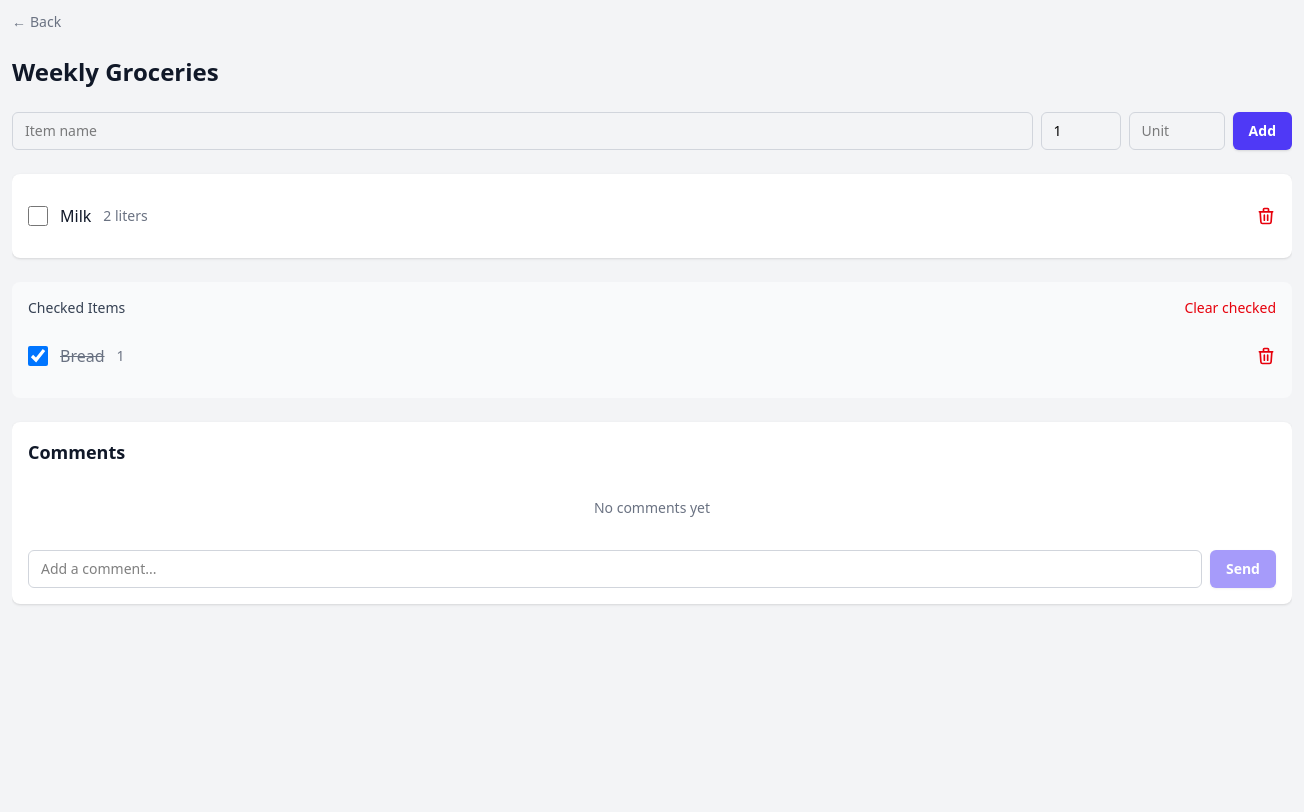
Scenario: ShoppingListView › Clear checked functionality › shows toast with undo option after clearing checked items
This screenshot has width=1304, height=812.
Click the button with test id "clear-checked-button": (1230, 308) [1184,298,1276,318]
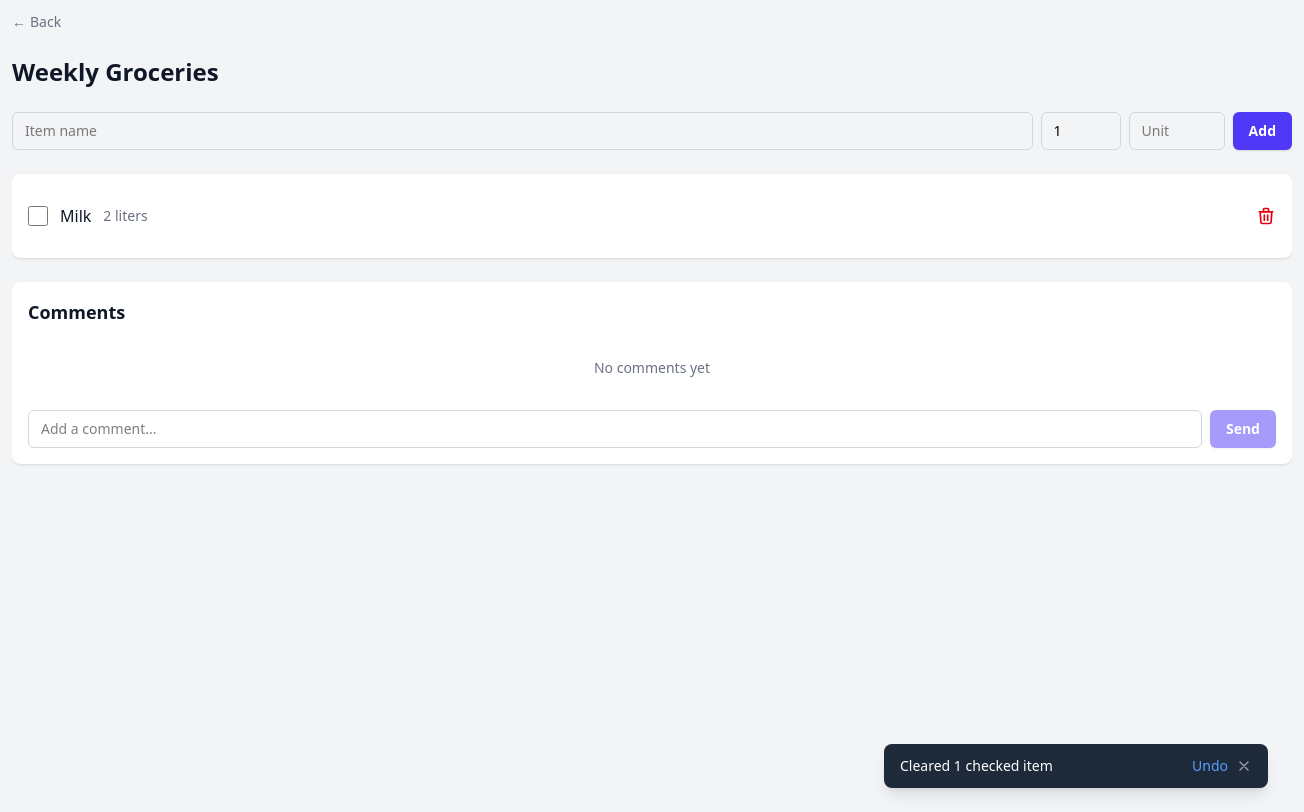
Result: the text with test id "toast-message" reads "Cleared 1 checked item" at [900,756,1053,775]
Result: the button with test id "toast-undo-button" is shown at [1192,756,1228,776]
